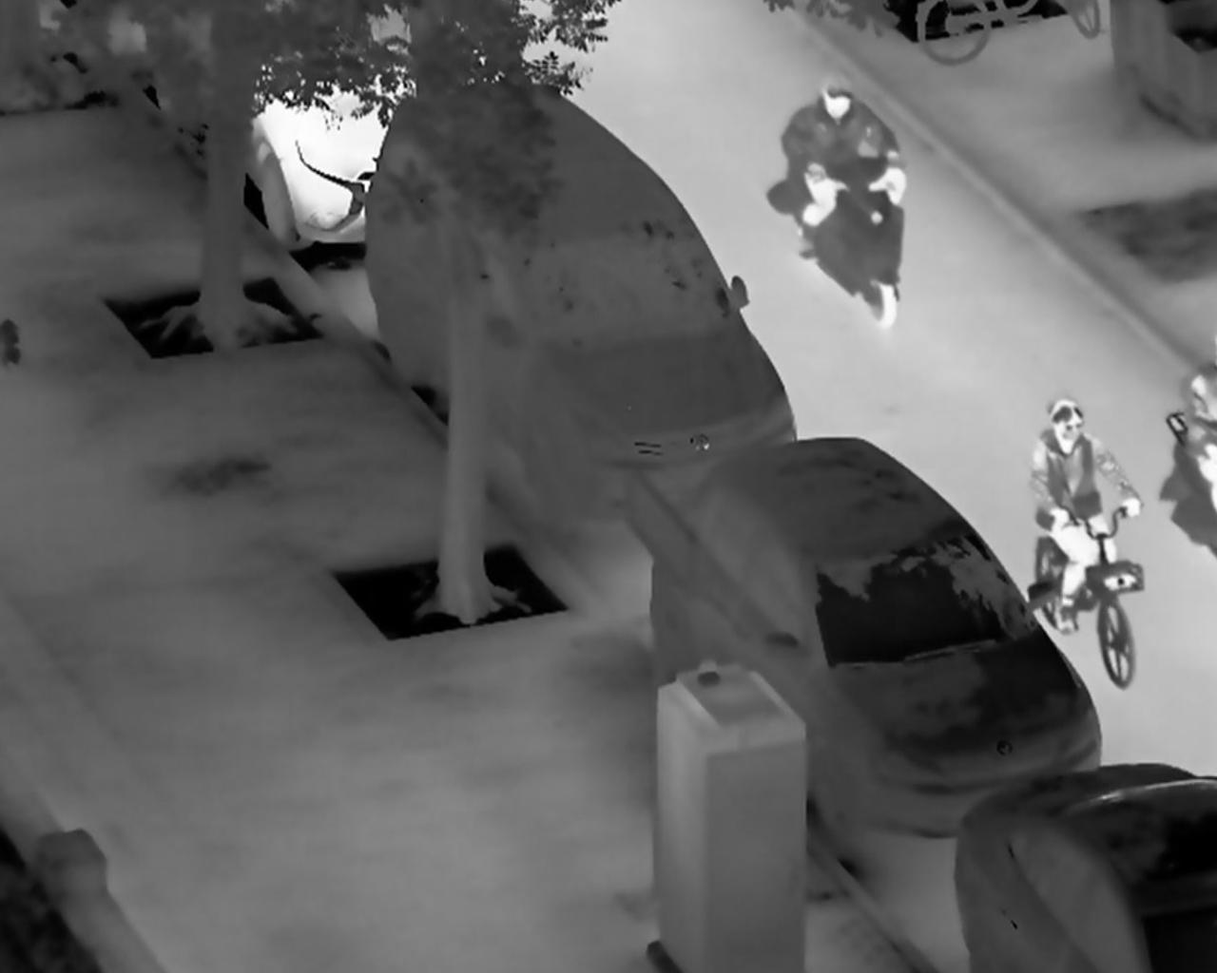person: (1029, 394, 1143, 637), (790, 73, 913, 263)
